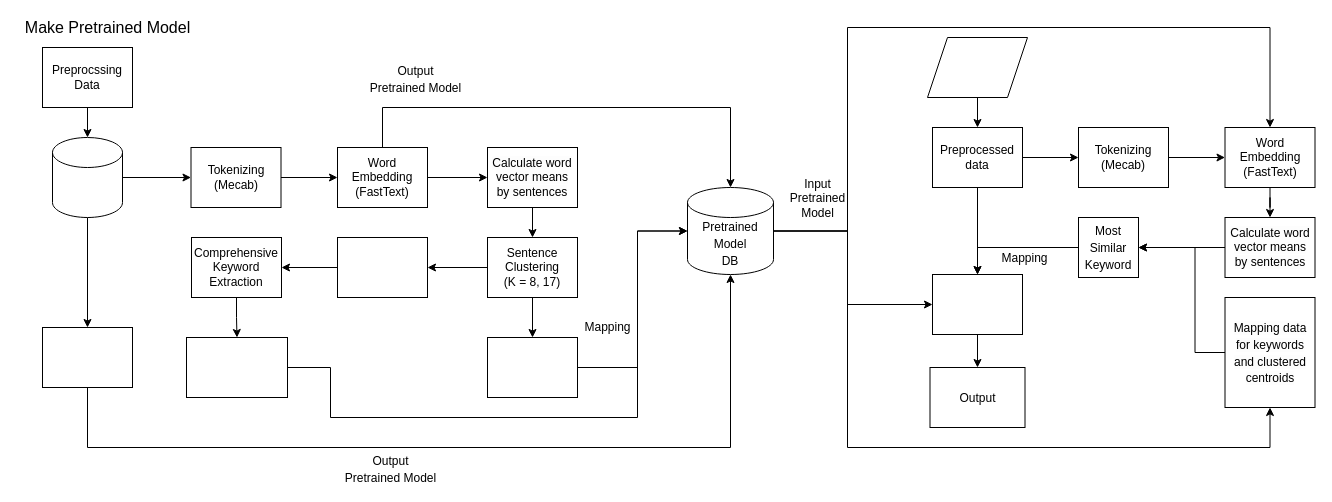
Image size: 1332x502. Some labels were removed from this diagram. Here are the shapes that lost their labels. From the top down, the box of each, then its label:
(926, 36, 1028, 98): Input review data
(52, 136, 122, 218): DB
(336, 236, 428, 298): Keyword Extraction (Mecab)
(932, 274, 1022, 334): Pretrained Sentiment Analysis (KoELECTRA)
(42, 326, 132, 388): Sentiment Analysis (KoELECTRA)
(186, 336, 288, 398): Comprehensive Keywords
(486, 336, 578, 398): Clustered Centroids
